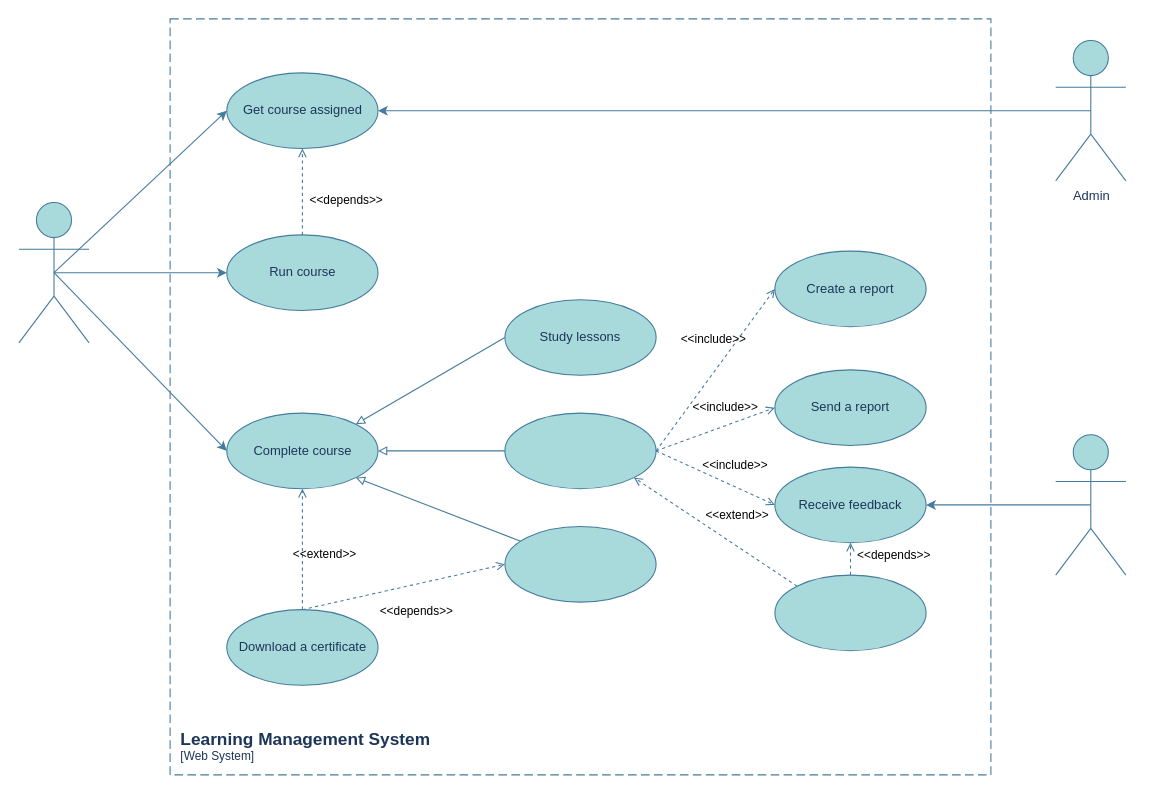
The diagram is 1172 pixels wide and 794 high, and some of its shapes have lost their labels. The centre of each missing label's shape, as x and y in pixels:
"Complete tests" goes at point 580,563.
"Edit a report" goes at point 850,612.
"Perform tasks" goes at point 580,450.
"Student" goes at point 53,272.
"Subject Matter Expert" goes at point 1090,504.
